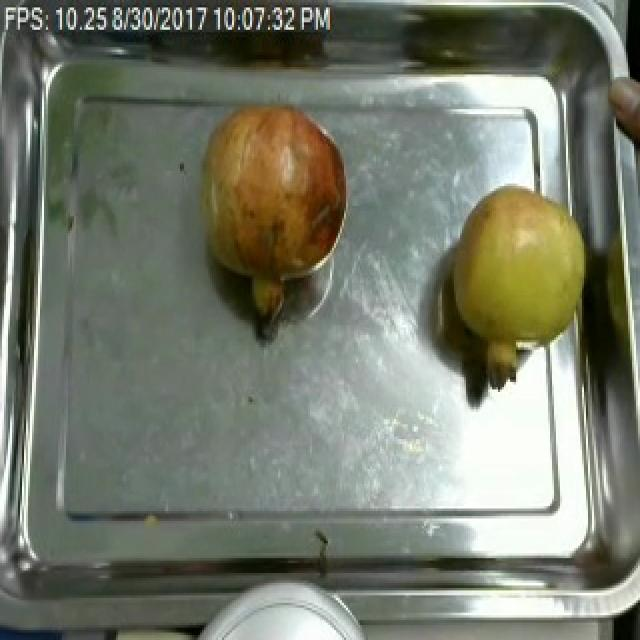fruit: (190, 92, 356, 335), (444, 174, 590, 377), (608, 62, 640, 161)
